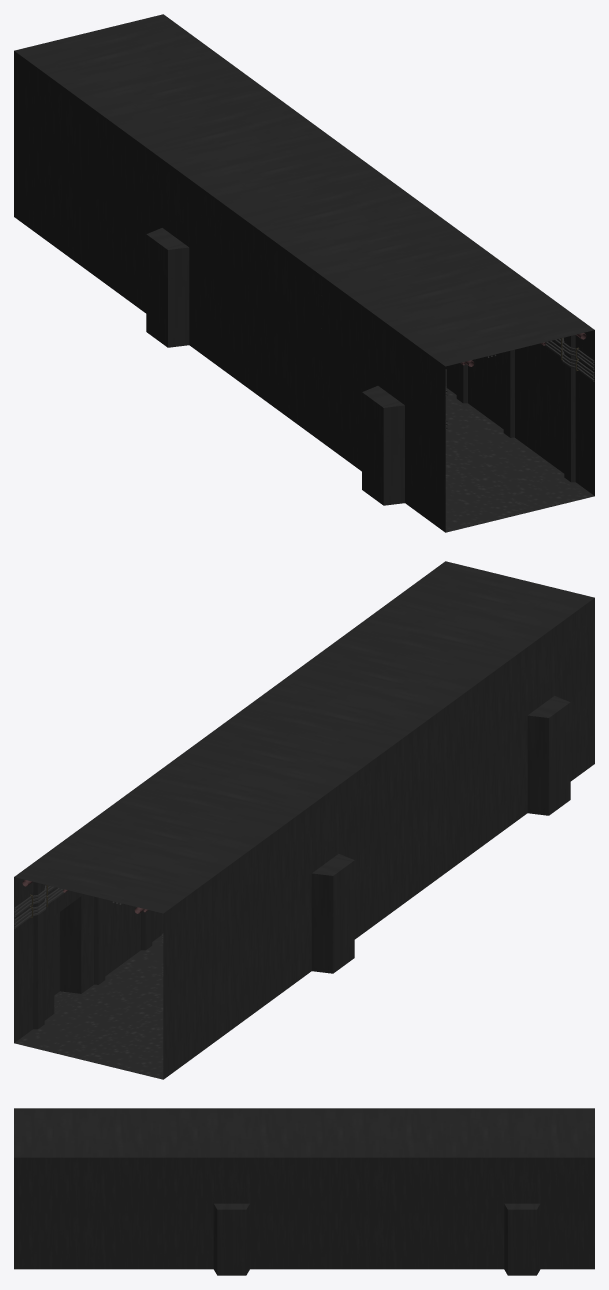
The model's file is SW_ENV_RailTunnel_B_03_Single_20m_FF.fbx.
The picture shows the model from 3 angles, top to bottom: view 1: azimuth 30°, elevation 25°; view 2: azimuth 150°, elevation 25°; view 3: azimuth 270°, elevation 25°; orthographic projection. The views are drawn at different scales.
Parts seen in each view (by area): view 1: SW_ENV_RailTunnel_B_03_Single_20m_FF; view 2: SW_ENV_RailTunnel_B_03_Single_20m_FF; view 3: SW_ENV_RailTunnel_B_03_Single_20m_FF.
Boxes of the visible parts, bbox=[...] form: SW_ENV_RailTunnel_B_03_Single_20m_FF: bbox=[14, 14, 594, 532]; SW_ENV_RailTunnel_B_03_Single_20m_FF: bbox=[14, 561, 594, 1079]; SW_ENV_RailTunnel_B_03_Single_20m_FF: bbox=[14, 1108, 594, 1275].
Bounding box in the file's own units: 5 × 4.25 × 20.
